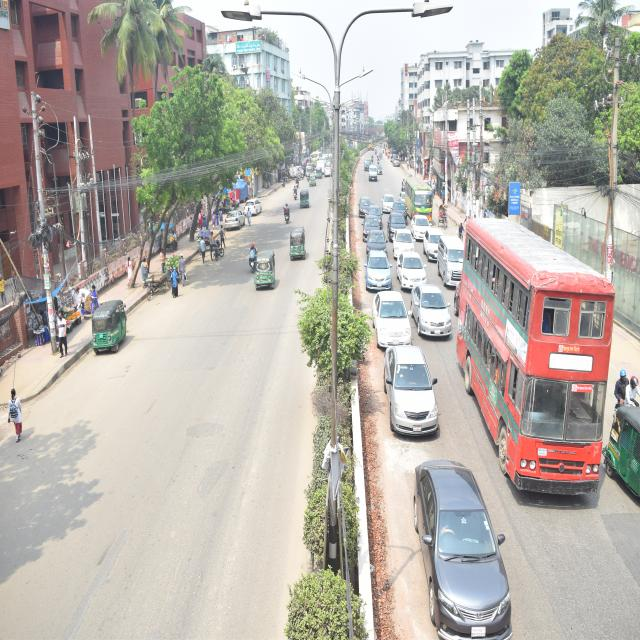bus: (457, 209, 617, 513), (406, 174, 433, 222)
car: (413, 461, 516, 640), (385, 344, 440, 435), (413, 283, 453, 340), (374, 291, 411, 347), (363, 248, 396, 291), (396, 252, 428, 286), (392, 225, 416, 259), (424, 225, 446, 262), (365, 228, 391, 258), (224, 209, 248, 231), (411, 212, 431, 236), (246, 196, 264, 217), (362, 218, 381, 236), (380, 192, 396, 213), (358, 194, 372, 214)
microbus: (438, 234, 466, 288), (368, 162, 377, 184)
motorbike: (246, 246, 259, 274), (283, 203, 291, 229), (292, 185, 299, 203)
